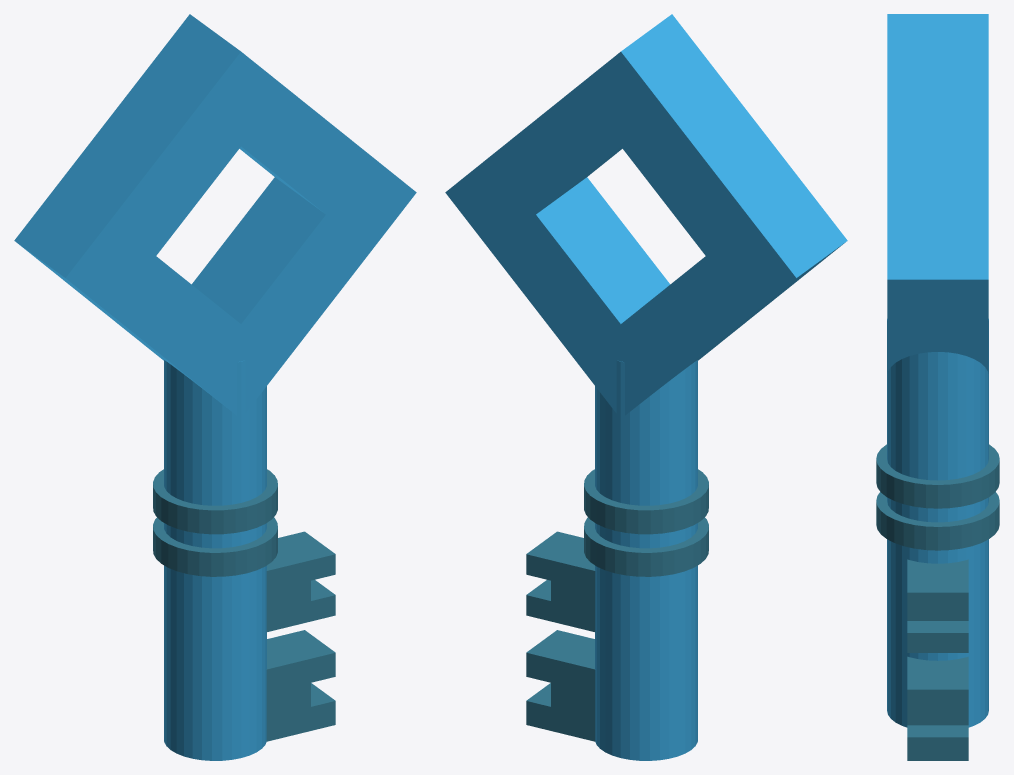
The model's file is Key2c.fbx.
3 renders of one model, left to right at view 1: azimuth 30°, elevation 25°; view 2: azimuth 150°, elevation 25°; view 3: azimuth 270°, elevation 25°, orthographic.
Parts seen in each view (by area): view 1: Cube.038, Keypart1.005, Keypart6.005, Keypart5.005, Keypart3.005, Keypart4.005; view 2: Cube.038, Keypart1.005, Keypart6.005, Keypart5.005, Keypart3.005, Keypart4.005; view 3: Cube.038, Keypart1.005, Keypart6.005, Keypart5.005, Keypart3.005, Keypart4.005.
Boxes of the visible parts, x1,y1,x2,y2 form: Cube.038: [14, 14, 416, 415]; Keypart1.005: [164, 360, 266, 760]; Keypart6.005: [266, 630, 335, 741]; Keypart5.005: [266, 531, 335, 631]; Keypart3.005: [153, 469, 277, 534]; Keypart4.005: [153, 517, 277, 576]; Cube.038: [445, 14, 847, 415]; Keypart1.005: [595, 360, 697, 760]; Keypart6.005: [526, 630, 595, 741]; Keypart5.005: [526, 531, 595, 631]; Keypart3.005: [584, 469, 708, 534]; Keypart4.005: [584, 517, 708, 576]; Cube.038: [887, 14, 988, 373]; Keypart1.005: [887, 319, 988, 727]; Keypart6.005: [907, 656, 968, 760]; Keypart5.005: [907, 559, 968, 652]; Keypart3.005: [876, 444, 999, 508]; Keypart4.005: [876, 492, 999, 550].
Bounding box in the file's own units: 61.03 × 117 × 18.86.
